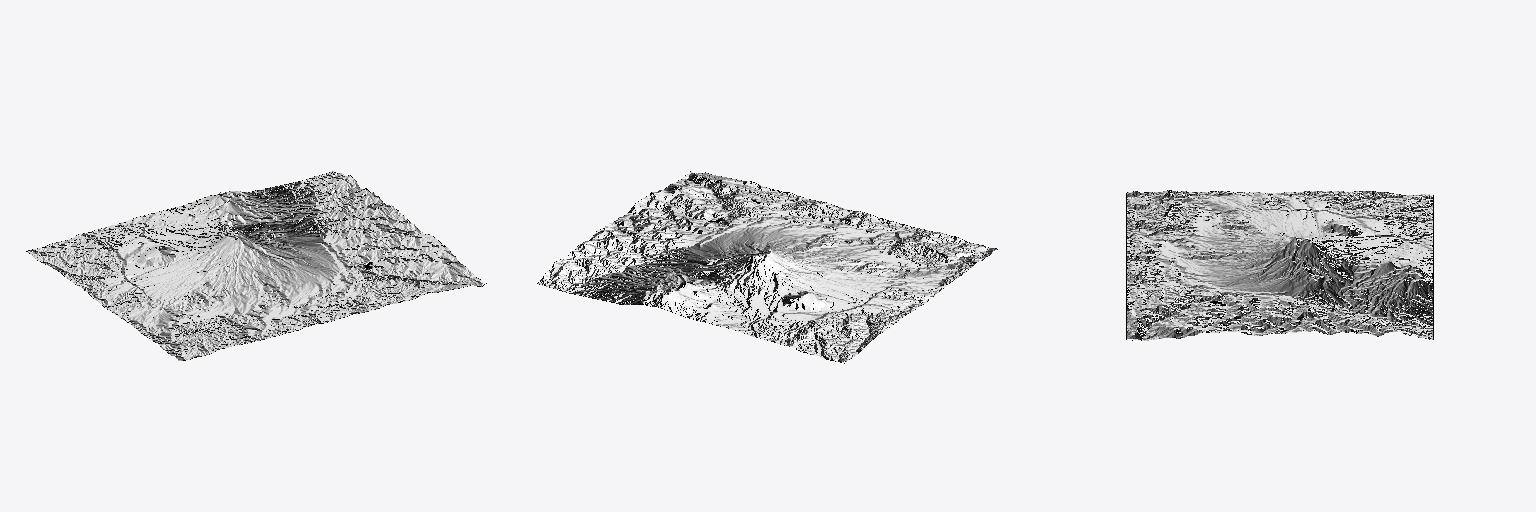
3 renders of one model, left to right at view 1: azimuth 30°, elevation 25°; view 2: azimuth 150°, elevation 25°; view 3: azimuth 270°, elevation 25°, orthographic.
Visible parts, largest first — view 1: dem; view 2: dem; view 3: dem.
Part boxes in pixels (x1,y1,x2,y2): dem: (26, 171, 486, 360); dem: (537, 171, 997, 363); dem: (1126, 190, 1433, 340).
Bounding box in the file's own units: 54784 × 4923 × 47424.
Materials: 1 (1 with a texture image).